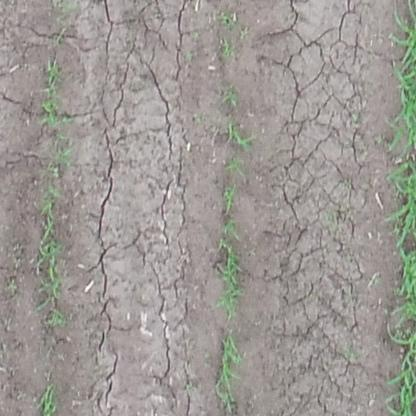corn: (37, 182, 67, 309), (211, 329, 247, 401), (217, 238, 244, 318), (40, 98, 75, 128), (42, 53, 69, 90), (227, 122, 257, 153), (219, 182, 240, 217), (36, 381, 57, 416), (225, 155, 250, 176)
